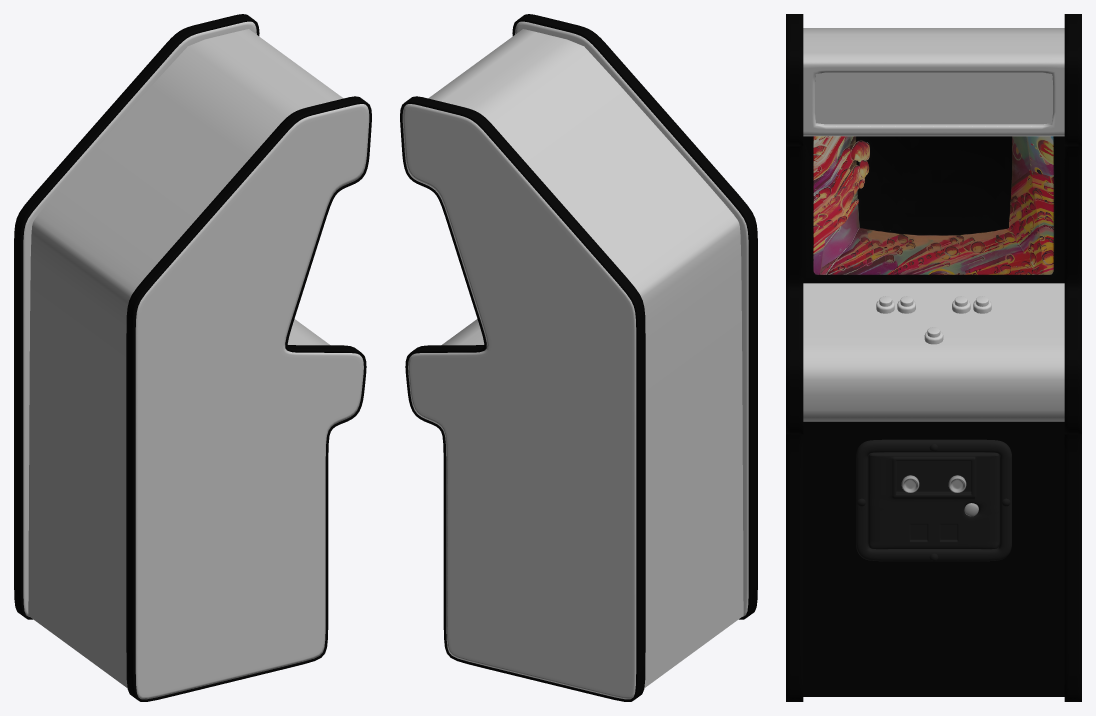
The model's file is arcade.obj.
3 views of the same model, side by side, from view 1: azimuth 30°, elevation 25°; view 2: azimuth 150°, elevation 25°; view 3: azimuth 270°, elevation 25° (orthographic). The views are drawn at different scales.
Visible parts, largest first — view 1: Edge, Center, EdgeRibbon; view 2: Edge, Center, EdgeRibbon; view 3: Plane.009, Center, Screen, EdgeRibbon, Plane.007, Display, Circle.002.
Boxes of the visible parts, x1,y1,x2,y2 form: Edge: (23, 21, 369, 699); Center: (28, 29, 343, 687); EdgeRibbon: (14, 14, 371, 701); Edge: (402, 21, 748, 699); Center: (428, 29, 743, 687); EdgeRibbon: (400, 14, 757, 701); Plane.009: (803, 421, 1064, 696); Center: (803, 28, 1064, 421); Screen: (803, 136, 1064, 283); EdgeRibbon: (786, 14, 1081, 701); Plane.007: (856, 439, 1011, 561); Display: (815, 72, 1052, 124); Circle.002: (901, 475, 966, 492).
Bounding box in the file's own units: 1.58 × 3.48 × 1.37.
